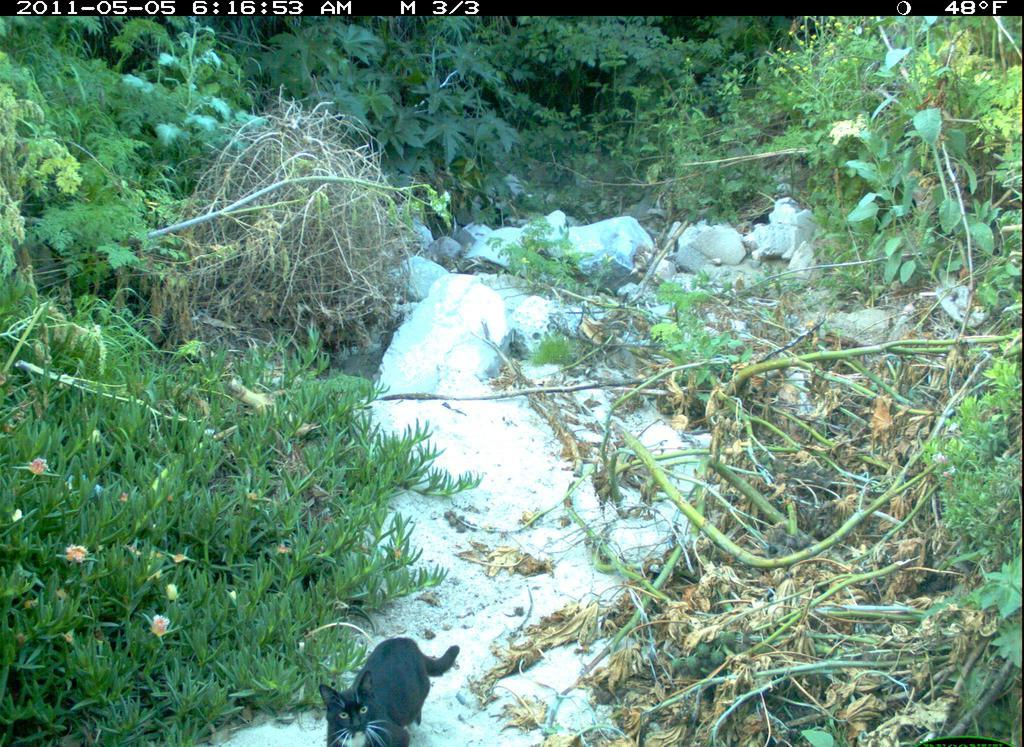cat: (291, 620, 464, 747)
